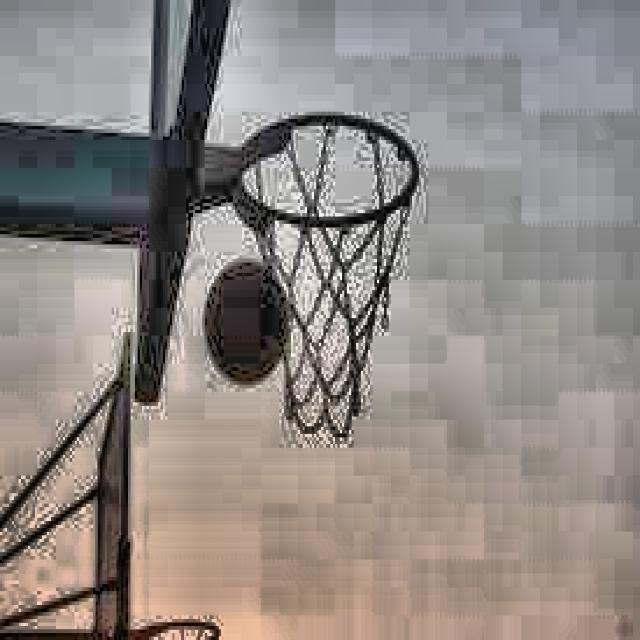rim: (252, 116, 418, 440)
